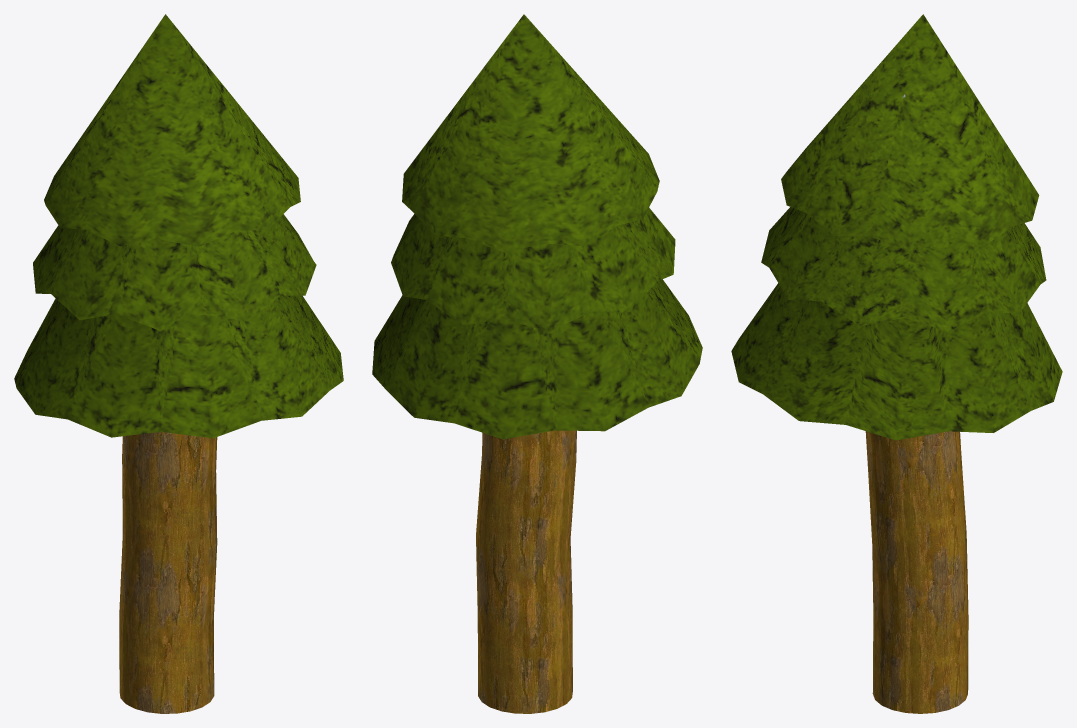
The picture shows the model from 3 angles, left to right: view 1: azimuth 30°, elevation 25°; view 2: azimuth 150°, elevation 25°; view 3: azimuth 270°, elevation 25°; orthographic projection.
Parts seen in each view (by area): view 1: pCylinder2; view 2: pCylinder2; view 3: pCylinder2.
Boxes of the visible parts, left/top/right/bottom form: pCylinder2: left=14, top=14, right=343, bottom=713; pCylinder2: left=372, top=14, right=702, bottom=713; pCylinder2: left=731, top=14, right=1062, bottom=713.
Size of the model in its own units: 206 by 464 by 205.
1 material, 1 textured.
